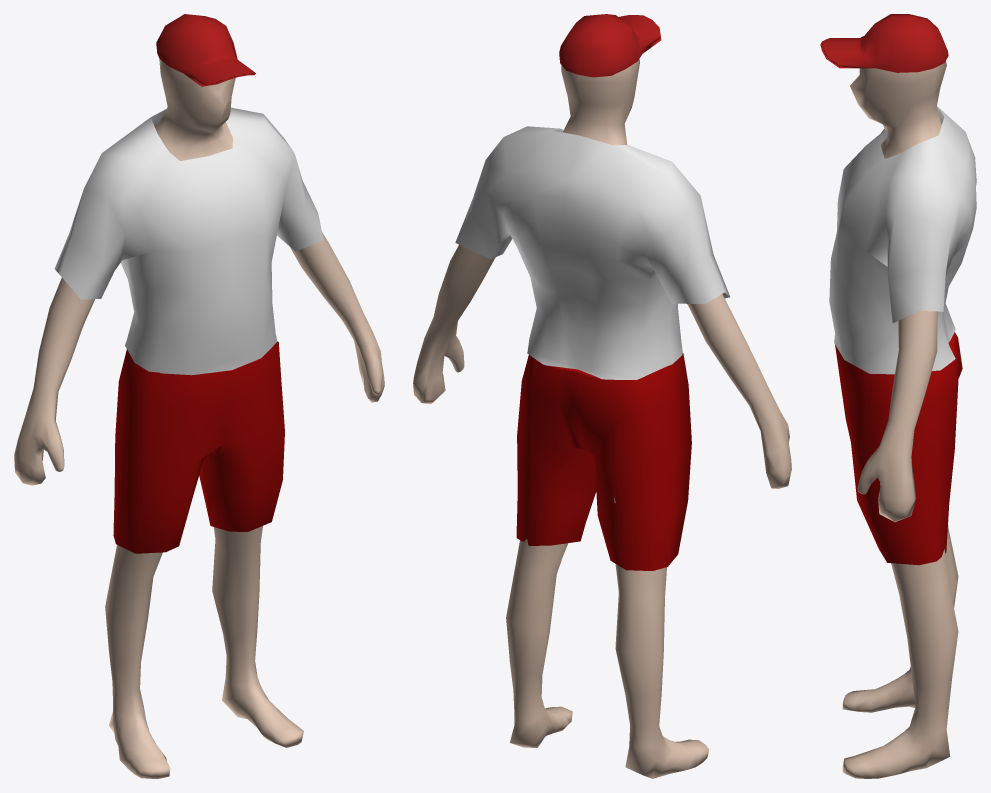
File: observateur casquette.fbx
3 views of the same model, side by side, from view 1: azimuth 30°, elevation 25°; view 2: azimuth 150°, elevation 25°; view 3: azimuth 270°, elevation 25° (orthographic). The views are drawn at different scales.
Parts seen in each view (by area): view 1: observateur_casquette; view 2: observateur_casquette; view 3: observateur_casquette.
Boxes of the visible parts, x1,y1,x2,y2 form: observateur_casquette: [14, 14, 384, 778]; observateur_casquette: [413, 14, 791, 778]; observateur_casquette: [820, 14, 976, 778].
Size of the model in its own units: 96.38 by 183 by 35.88.
